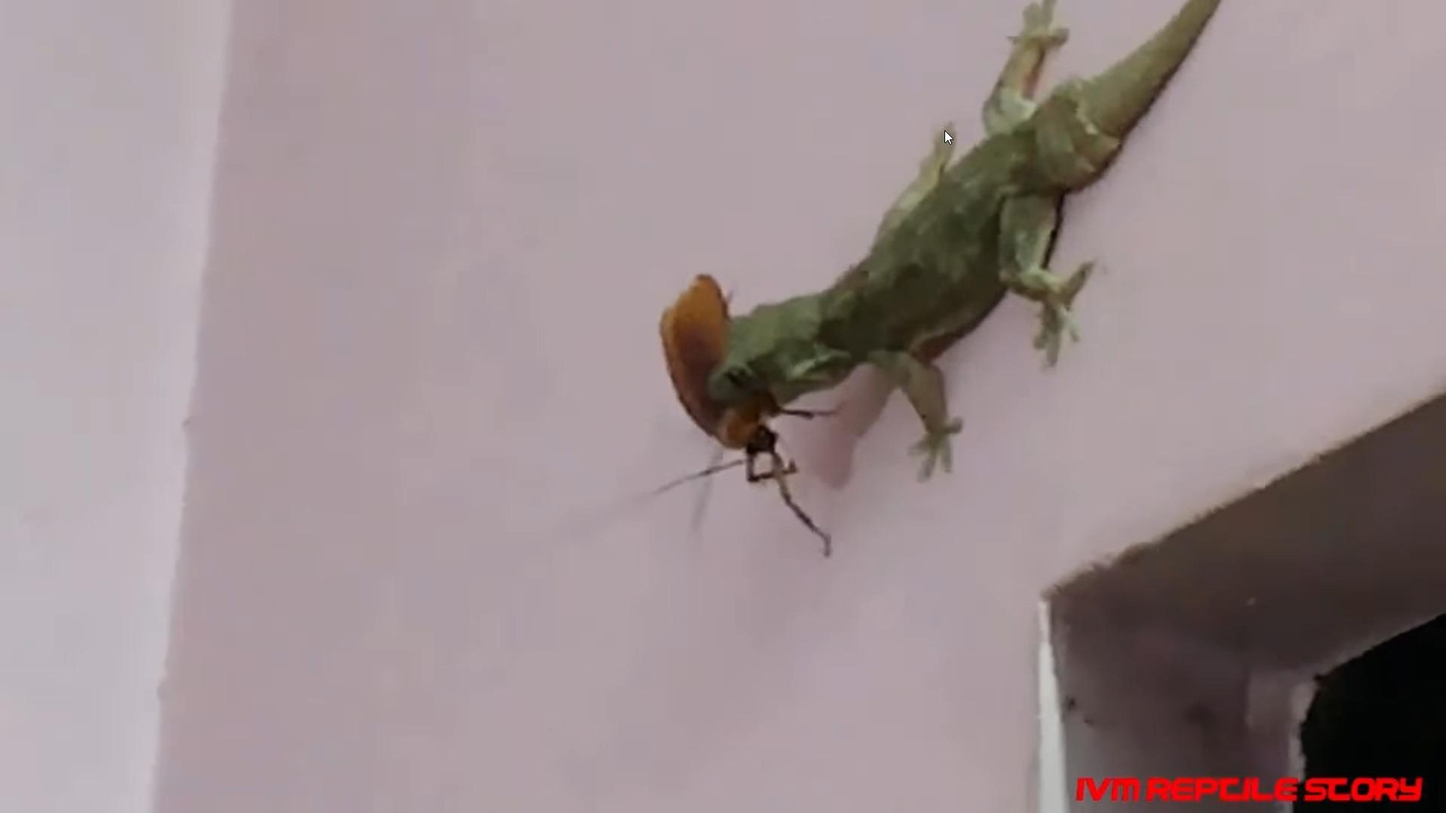cockroach: (644, 274, 749, 459)
lizard: (726, 30, 1152, 390)
